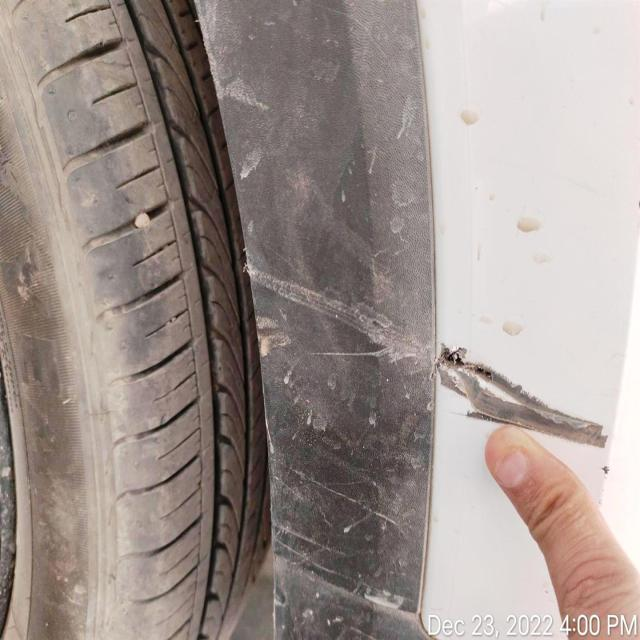damage: (436, 343, 610, 452)
